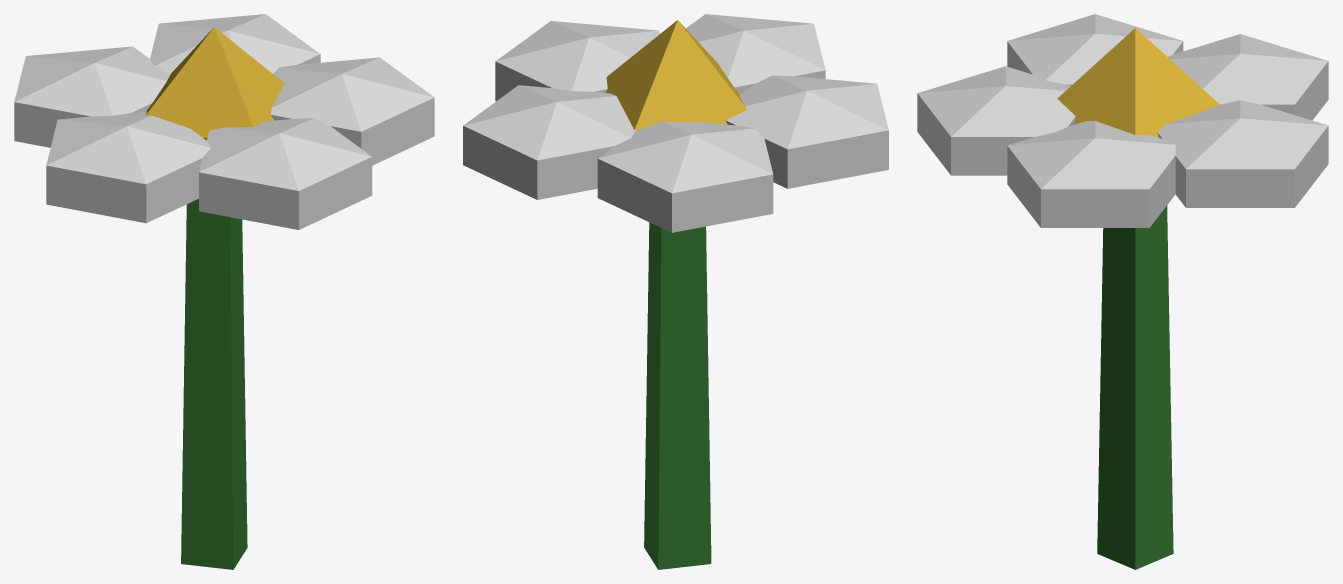
The model's file is biome-clover-flowerWhite.glb.
The picture shows the model from 3 angles, left to right: view 1: azimuth 30°, elevation 25°; view 2: azimuth 150°, elevation 25°; view 3: azimuth 270°, elevation 25°; orthographic projection.
Bounding box in the file's own units: 0.5427 × 0.76 × 0.5382.
